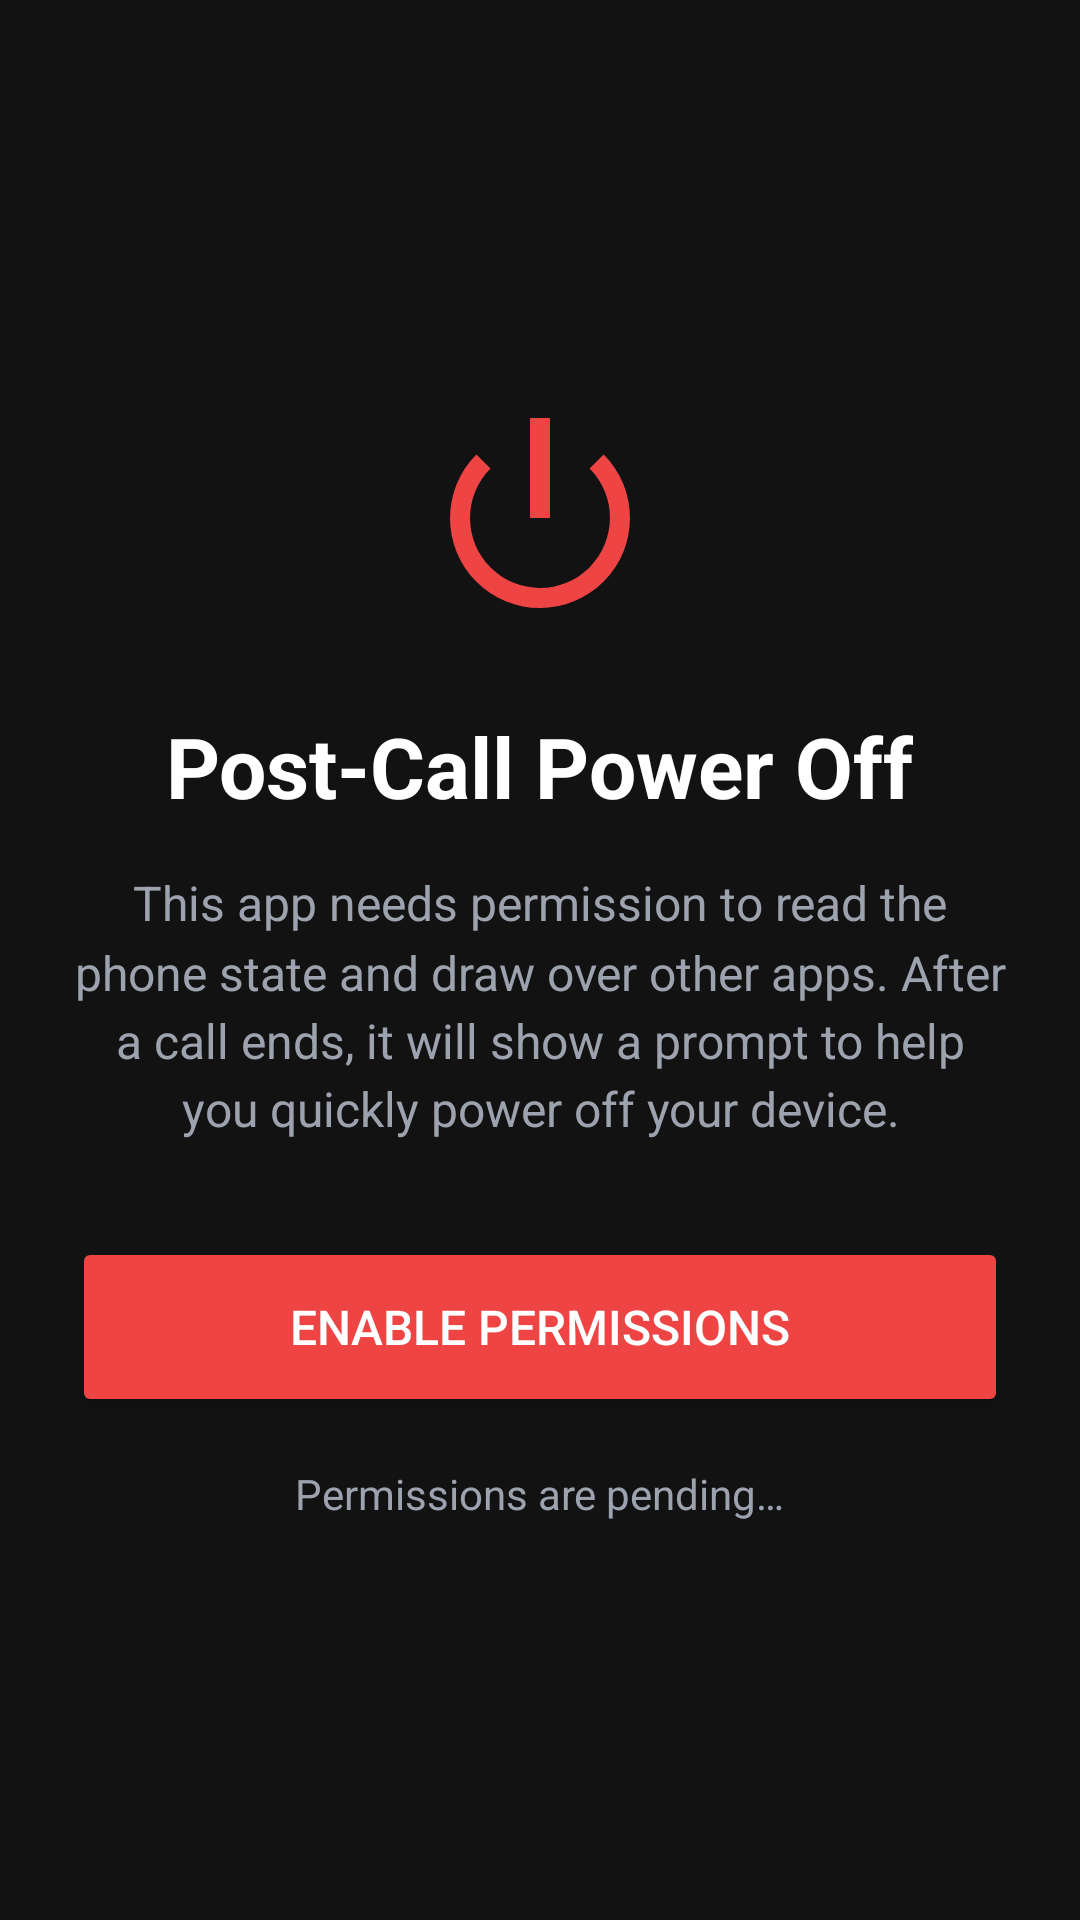

Icon bounding boxes for this 1080×1920 phone screenshot, format box=[x1, y1, x2, y2]:
App Icon: box=[450, 418, 630, 608]
